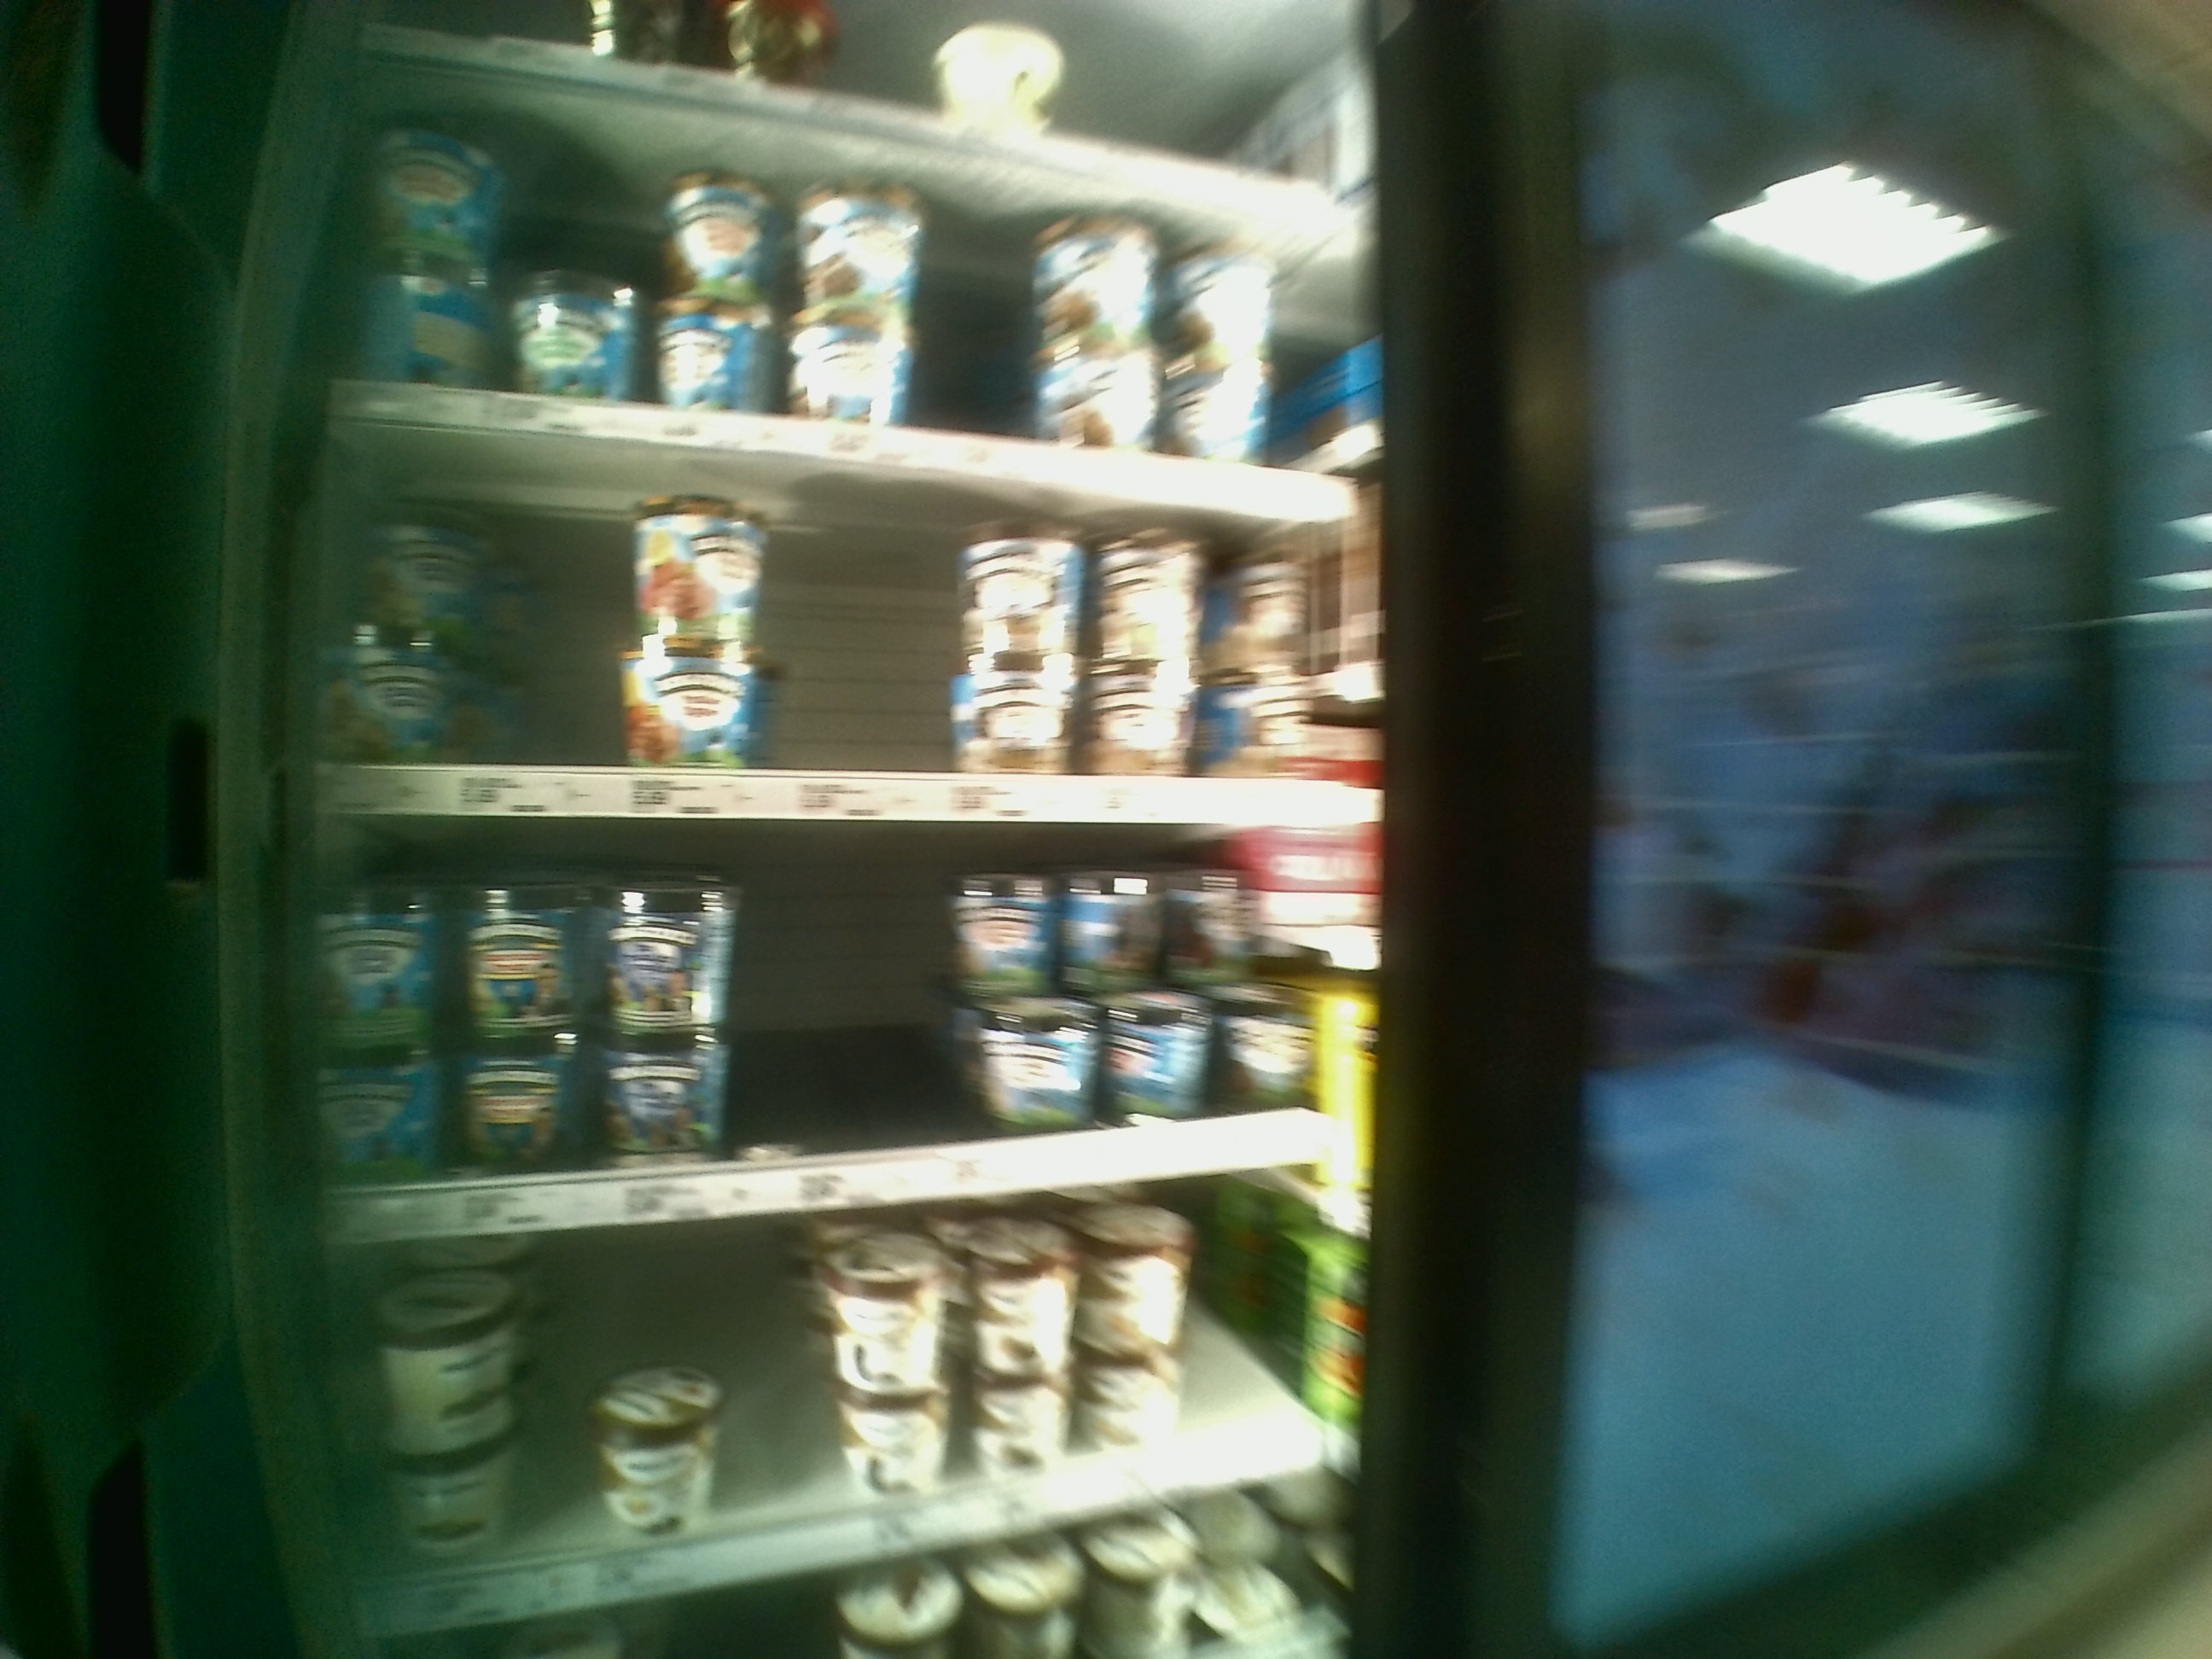shelf: (315, 408, 1406, 828), (315, 823, 1383, 1244)
